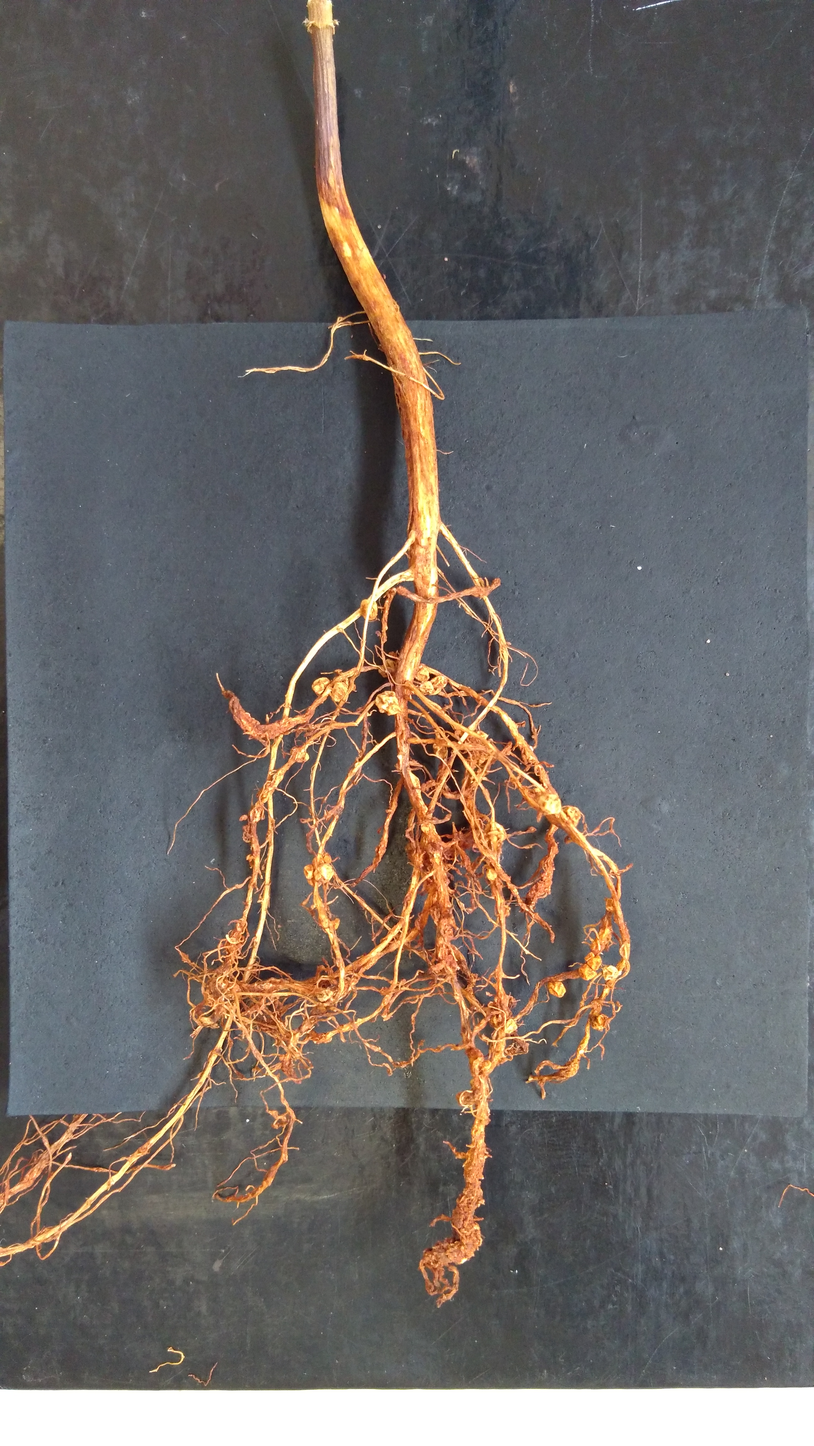nodule: (534, 790, 563, 817), (374, 690, 402, 716), (561, 803, 582, 829), (358, 598, 380, 622), (313, 861, 335, 884), (546, 979, 568, 1000), (468, 1048, 483, 1078), (378, 657, 398, 679), (589, 1012, 609, 1033), (331, 680, 349, 703), (310, 676, 330, 696), (578, 962, 598, 982), (289, 745, 310, 764), (414, 663, 431, 683), (601, 964, 620, 981), (494, 820, 508, 843), (585, 954, 603, 971), (321, 916, 339, 933), (429, 674, 448, 690), (504, 1017, 518, 1035), (483, 865, 499, 880), (420, 821, 438, 834), (302, 863, 315, 880), (419, 680, 434, 694), (475, 728, 490, 740), (480, 1059, 493, 1071), (582, 951, 595, 962), (322, 852, 332, 865)
